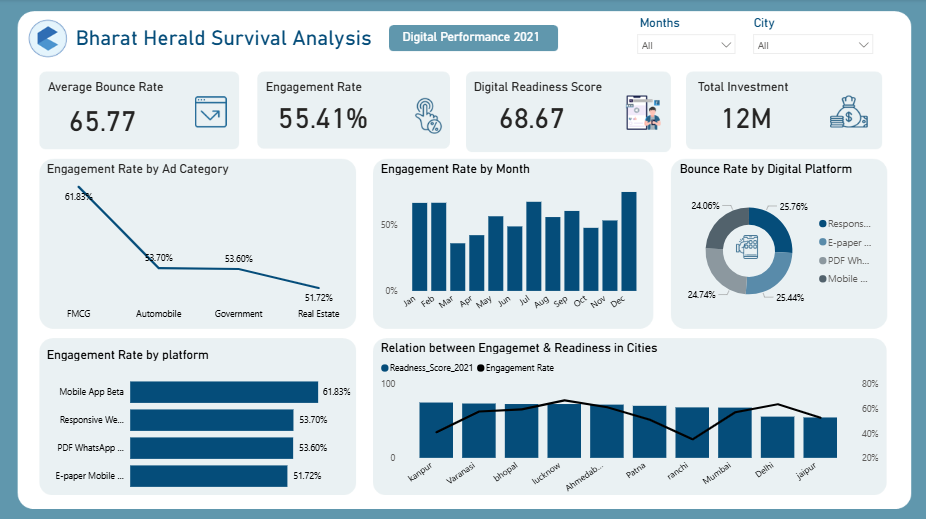

Layout of this report page (visuals, bound fields, positions):
{"tool":"powerbi","page":{"name":"Digital Performance","canvas":[1280,720],"ordinal":2},"visuals":[{"type":"card","fields":{"Values":["Avg(bharatherald fact_digital_pilot.avg_bounce_rate)"]},"box":[52.9,134.2,181.9,58.1],"z":0},{"type":"slicer","fields":{"Values":["bharatherald fact_digital_pilot.Date.Variation.Date Hierarchy.Month"]},"box":[869.7,38.7,154.8,49],"z":1000},{"type":"slicer","fields":{"Values":["bharatherald dim_city.city"]},"box":[1029.7,38.7,184.5,41.3],"z":2000},{"type":"card","fields":{"Values":["bharatherald fact_digital_pilot.Engagement Rate"]},"box":[353.5,127.7,185.8,64.5],"z":3000},{"type":"card","fields":{"Values":["bharatherald fact_city_readiness.digital_readness_2021"]},"box":[651.6,127.7,166.5,64.5],"z":4000},{"type":"card","fields":{"Values":["Sum(bharatherald fact_digital_pilot.Total_Cost_Of_Ivestment)"]},"box":[947.1,127.7,165.2,64.5],"z":5000},{"type":"clusteredBarChart","fields":{"Category":["bharatherald fact_digital_pilot.platform"],"Y":["bharatherald fact_digital_pilot.Engagement Rate"]},"box":[52.9,478.7,437.4,214.2],"z":6000},{"type":"lineClusteredColumnComboChart","title":"Relation between Engagemet & Readiness in Cities","fields":{"Category":["bharatherald dim_city.city"],"Y":["bharatherald fact_city_readiness.digital_readness_2021"],"Y2":["bharatherald fact_digital_pilot.Engagement Rate"]},"box":[521.3,469.7,695.5,223.2],"z":7000},{"type":"lineChart","title":"Engagement Rate by Ad Category","fields":{"Category":["bharatherald dim_ad_category.standard_ad_category"],"Y":["bharatherald fact_digital_pilot.Engagement Rate"]},"box":[61.9,223.2,428.4,228.4],"z":8000},{"type":"donutChart","title":"Bounce Rate by Digital Platform","fields":{"Category":["bharatherald fact_digital_pilot.platform"],"Y":["Sum(bharatherald fact_digital_pilot.avg_bounce_rate)"]},"box":[932.9,223.2,283.9,228.4],"z":9000},{"type":"clusteredColumnChart","title":"Engagement Rate by Month","fields":{"Y":["bharatherald fact_digital_pilot.Engagement Rate"],"Category":["bharatherald fact_digital_pilot.MonthShort"]},"box":[521.3,223.2,372.9,225.8],"z":10000},{"type":"textbox","box":[101.8,31.7,437.7,44],"z":11000},{"type":"textbox","box":[532.9,37.4,237.4,36.1],"z":12000},{"type":"textbox","box":[1034.8,18.1,46.5,36.1],"z":13000},{"type":"textbox","box":[877.4,18.1,80,36.1],"z":14000},{"type":"textbox","box":[63.2,105.8,174.2,43.9],"z":15000},{"type":"textbox","box":[363.4,106,261.5,44],"z":16000},{"type":"textbox","box":[650.3,105.8,219.4,43.9],"z":17000},{"type":"textbox","box":[957.4,105.8,174.2,43.9],"z":18000}]}

Visuals, with their boxes in screenshot pixels (x1, y1, x2, y2), scaled from the page's 1280x720 canvas onto the 926x519 screenshot:
card - Avg(bharatherald fact_digital_pilot.avg_bounce_rate): 38:97:170:139
slicer - bharatherald fact_digital_pilot.Date.Variation.Date Hierarchy.Month: 629:28:741:63
slicer - bharatherald dim_city.city: 745:28:878:58
card - bharatherald fact_digital_pilot.Engagement Rate: 256:92:390:139
card - bharatherald fact_city_readiness.digital_readness_2021: 471:92:592:139
card - Sum(bharatherald fact_digital_pilot.Total_Cost_Of_Ivestment): 685:92:805:139
clusteredBarChart - bharatherald fact_digital_pilot.platform x bharatherald fact_digital_pilot.Engagement Rate: 38:345:355:499
"Relation between Engagemet & Readiness in Cities" lineClusteredColumnComboChart: 377:339:880:499
"Engagement Rate by Ad Category" lineChart: 45:161:355:326
"Bounce Rate by Digital Platform" donutChart: 675:161:880:326
"Engagement Rate by Month" clusteredColumnChart: 377:161:647:324
textbox: 74:23:390:55
textbox: 386:27:557:53
textbox: 749:13:782:39
textbox: 635:13:693:39
textbox: 46:76:172:108
textbox: 263:76:452:108
textbox: 470:76:629:108
textbox: 693:76:819:108
